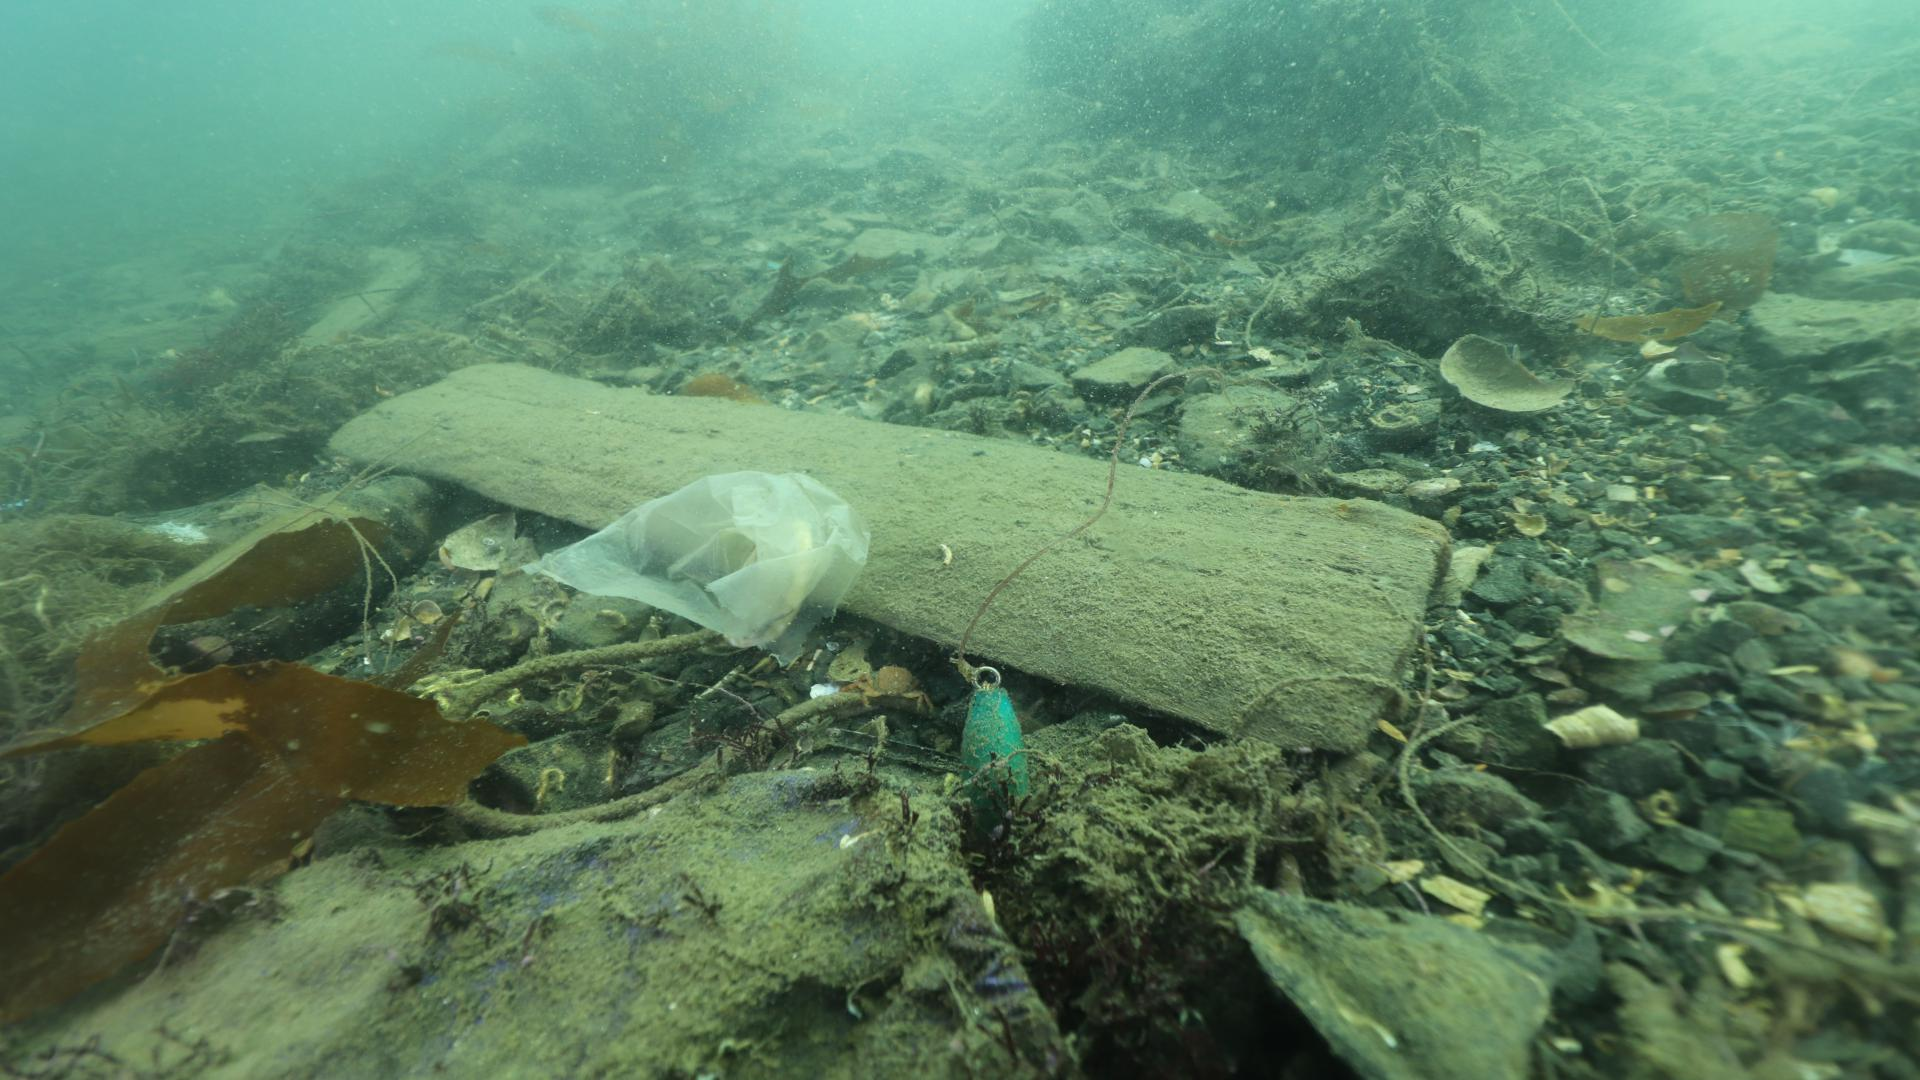wood: (320, 356, 1457, 757)
